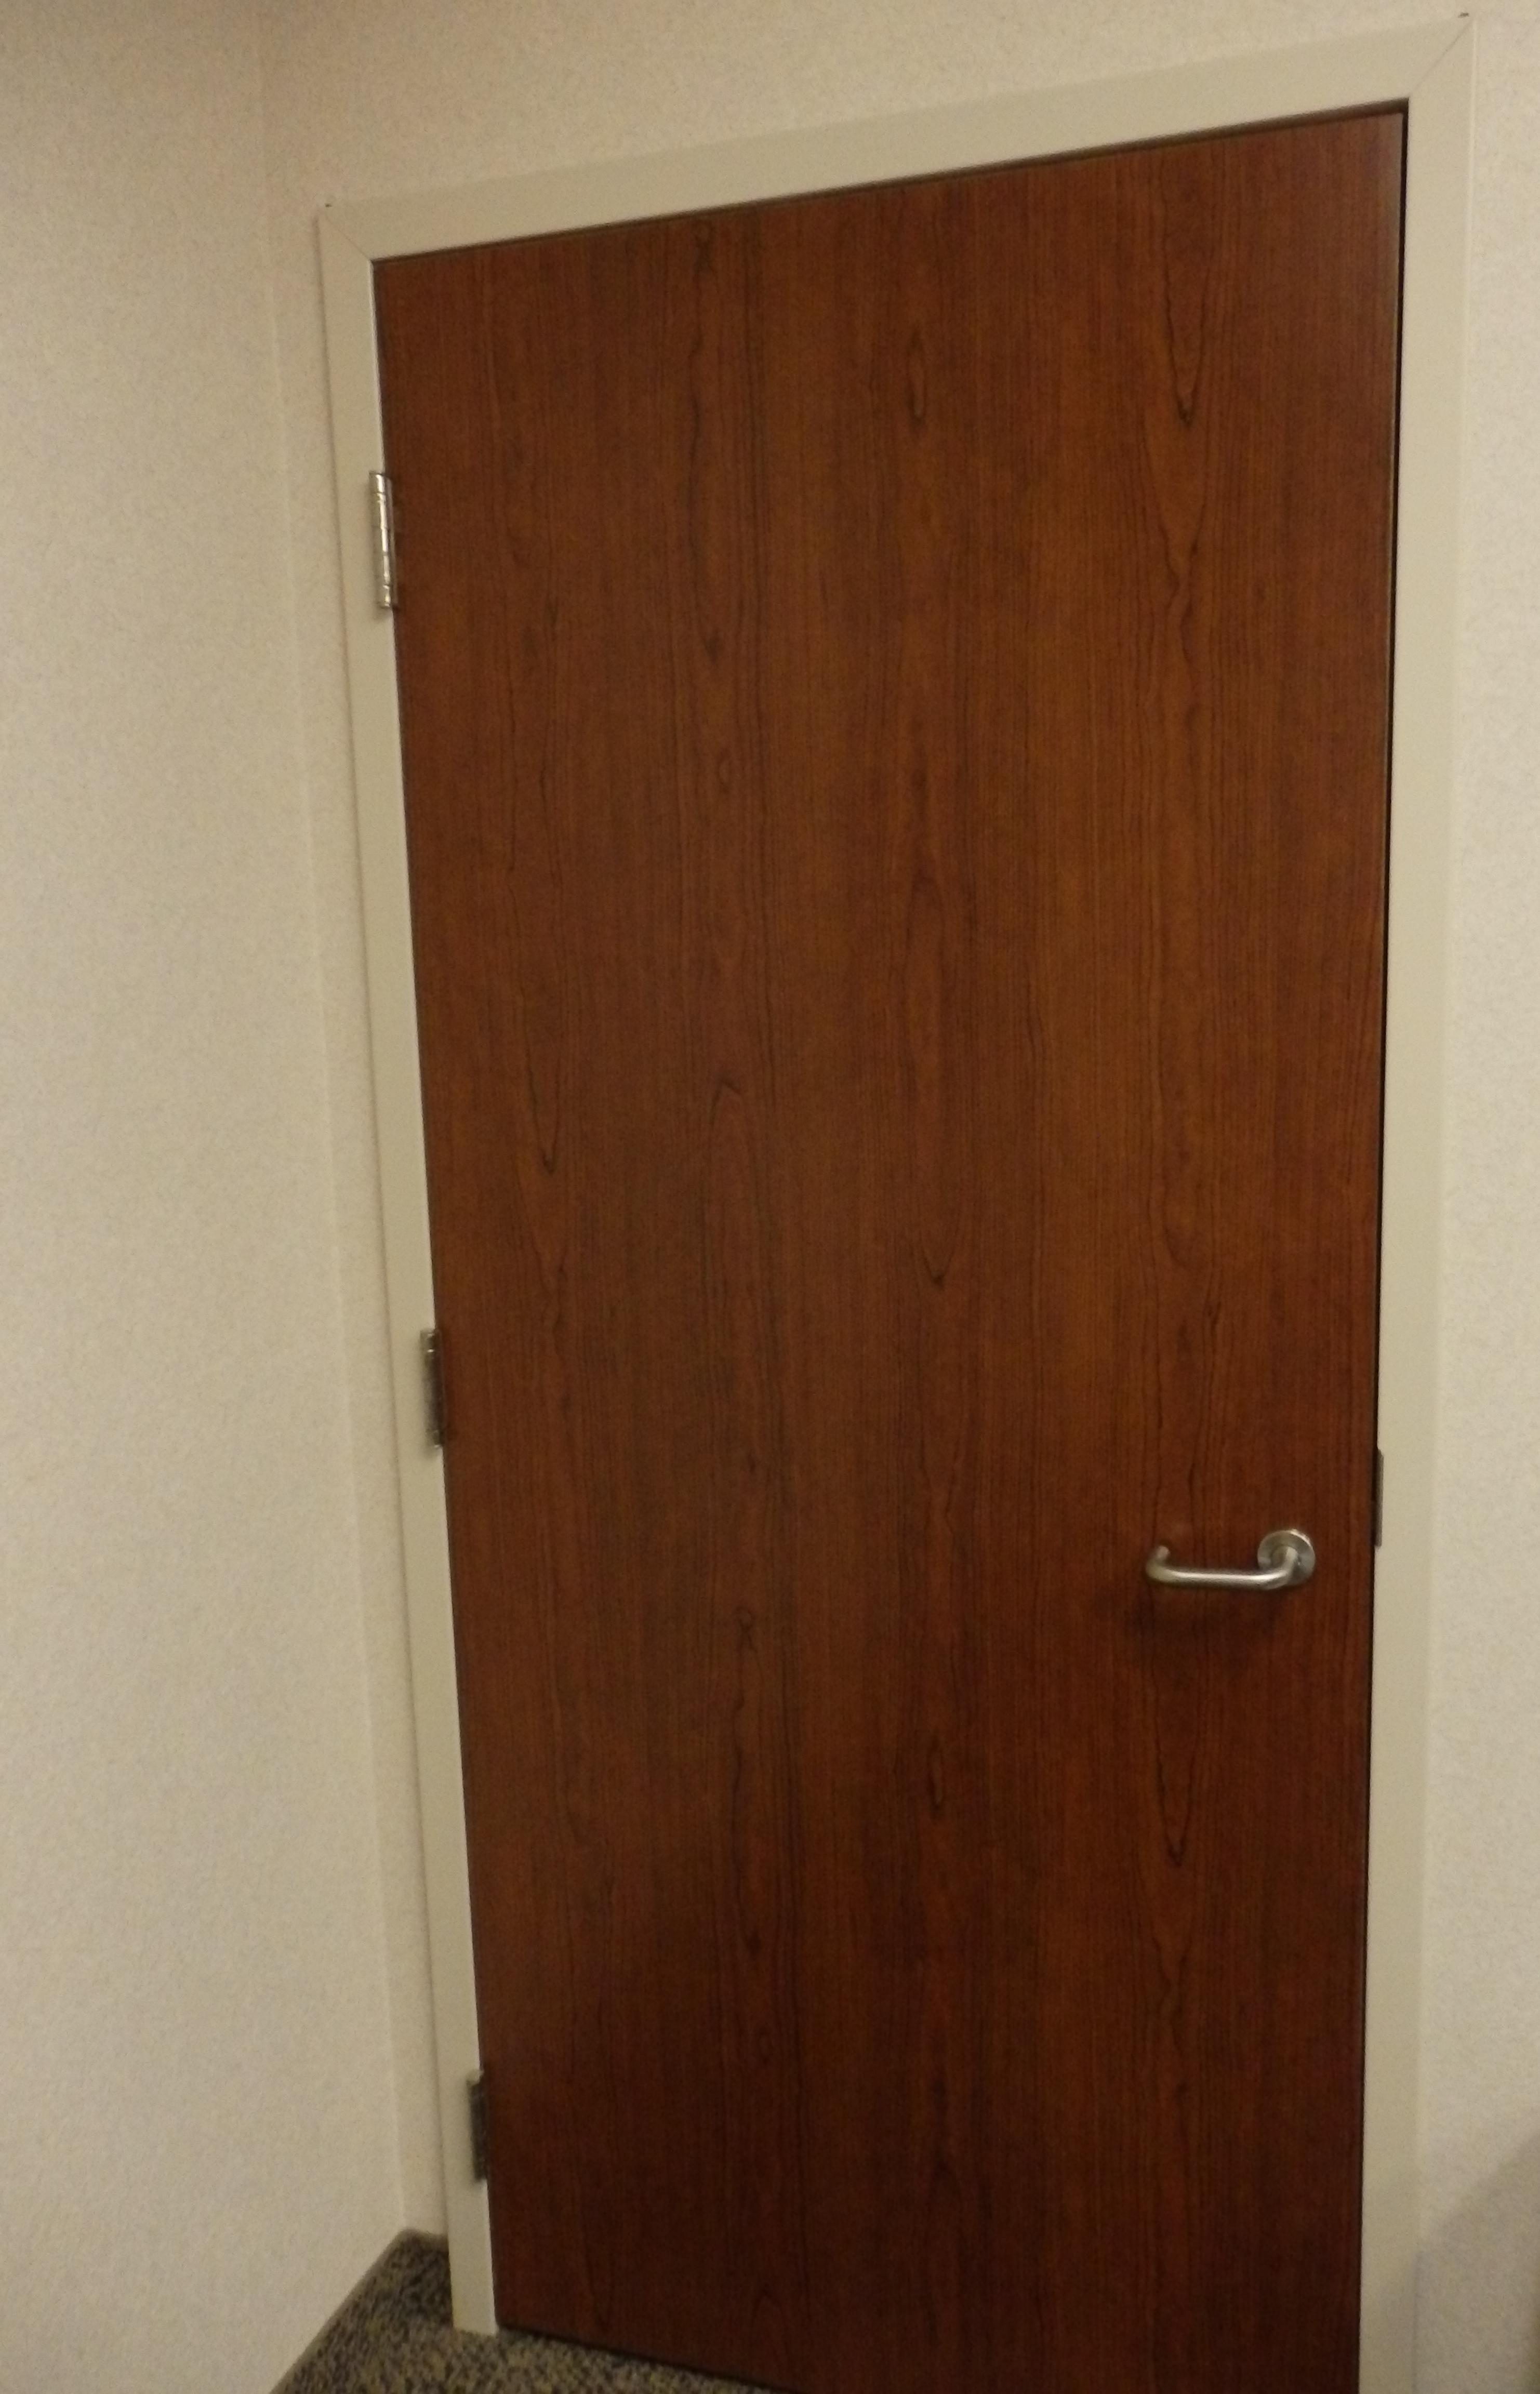door: (424, 293, 1359, 2380)
handle: (1132, 1513, 1317, 1630)
